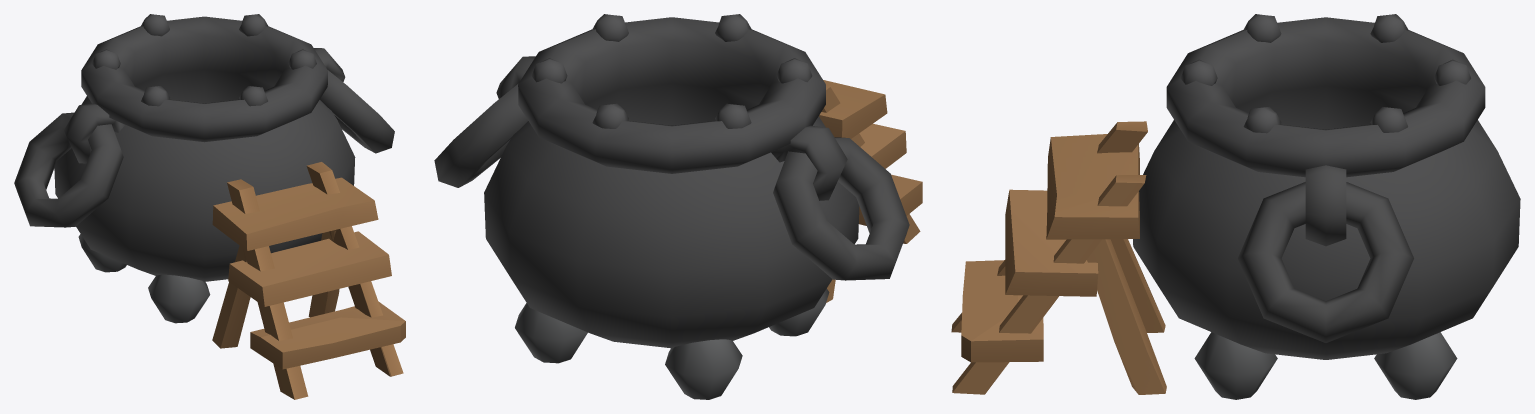
The model's file is Pot_Steel_E.fbx.
3 views of the same model, side by side, from view 1: azimuth 30°, elevation 25°; view 2: azimuth 150°, elevation 25°; view 3: azimuth 270°, elevation 25° (orthographic). The views are drawn at different scales.
Parts seen in each view (by area): view 1: Pot_Steel_E; view 2: Pot_Steel_E; view 3: Pot_Steel_E.
Part boxes in pixels (x1,y1,x2,y2): Pot_Steel_E: [14, 14, 405, 399]; Pot_Steel_E: [434, 14, 922, 399]; Pot_Steel_E: [951, 14, 1520, 399].
Bounding box in the file's own units: 90.67 × 55.89 × 96.5.
